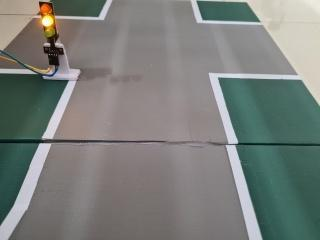yellow: (26, 0, 68, 45)
